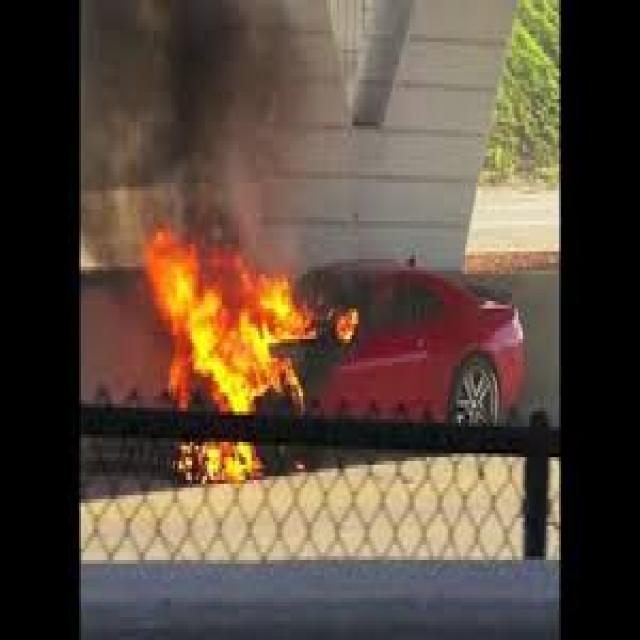fire: (140, 225, 314, 419), (173, 442, 269, 484)
smoke: (81, 4, 314, 244)
